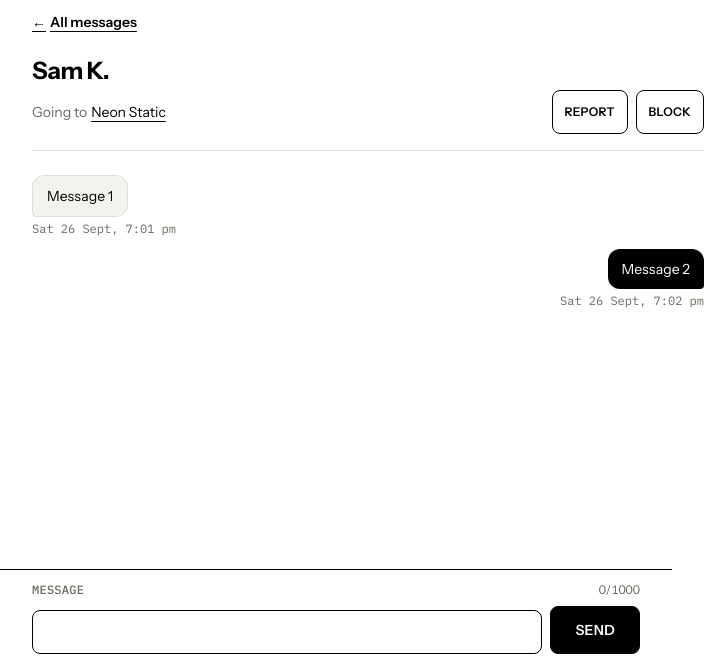
Test case: Thread — sending › an API field error about anything but the message isn't put on the box
In the text box labelled "Message": (287, 632) [32,610,542,654], type "Hello"
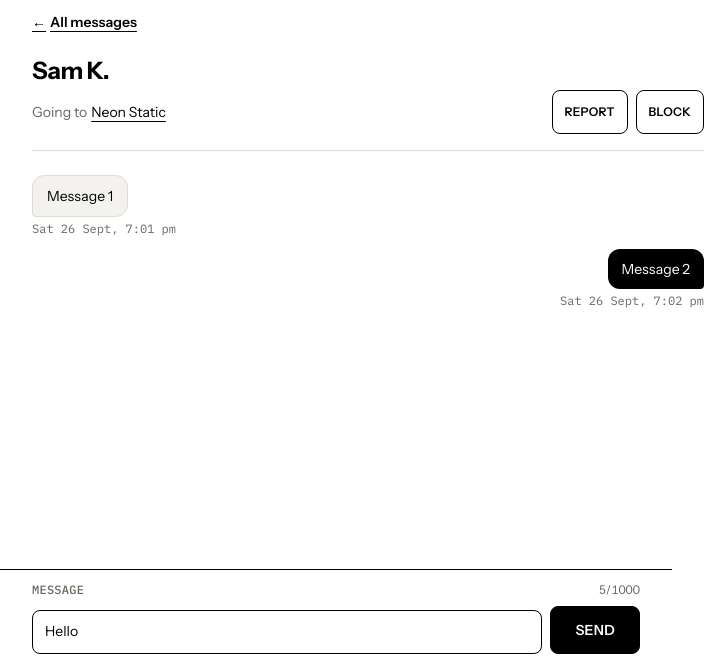
Click the button "Send": (595, 630) [550,606,640,654]
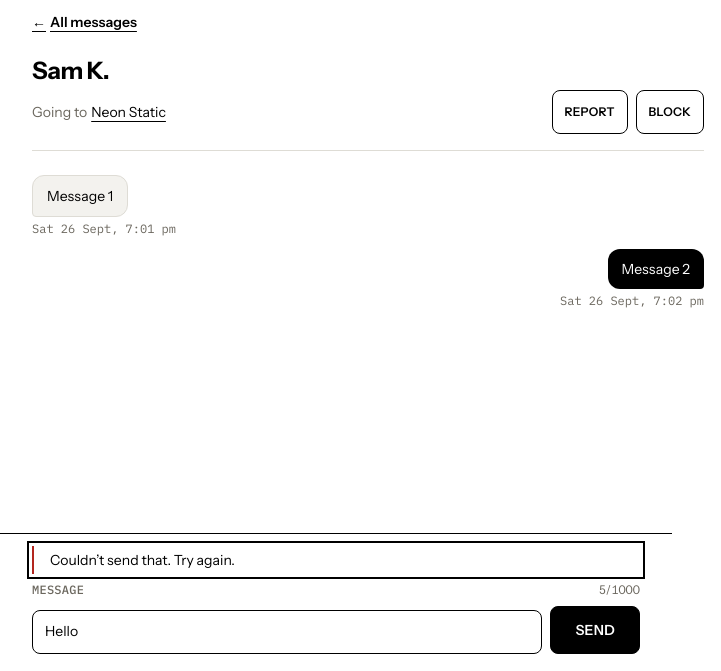
Result: the text "Couldn’t send that. Try again." is shown at [32,546,640,574]
